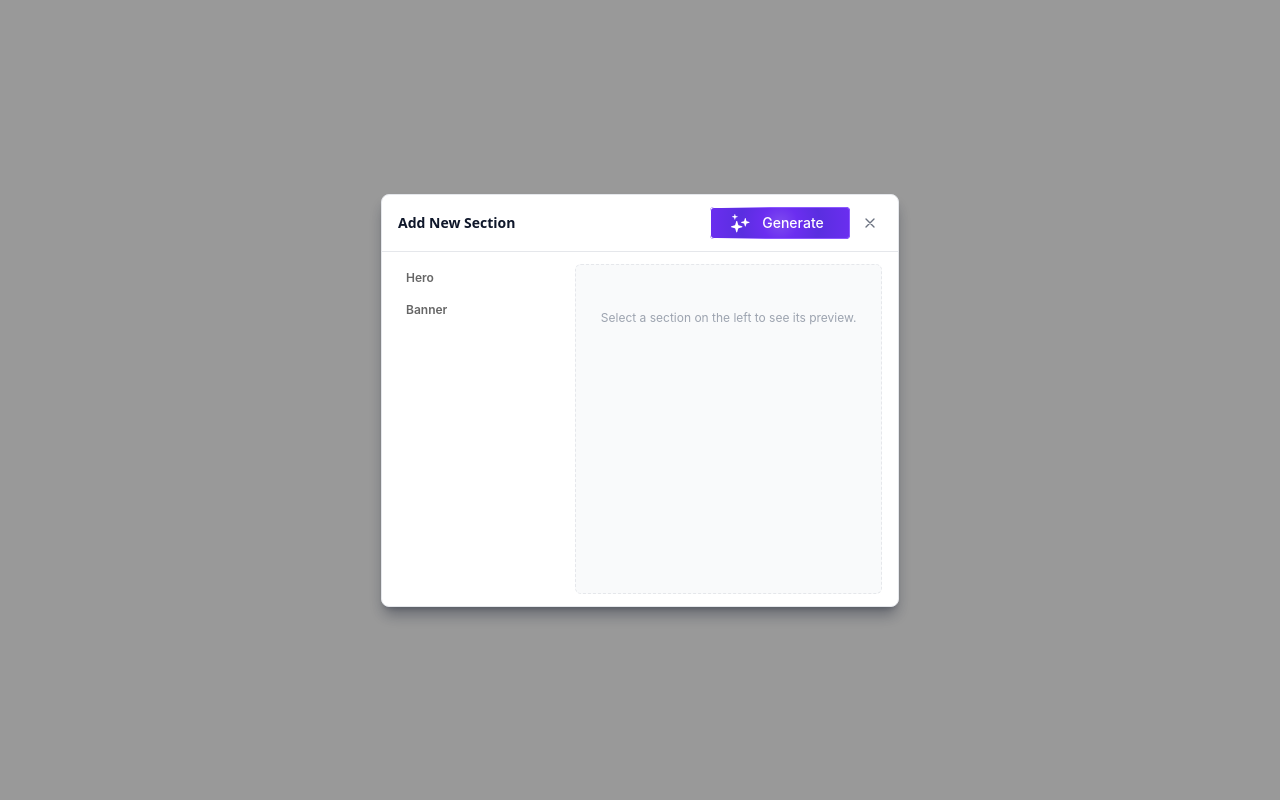
Scenario: SectionLibraryDialog — selection + confirm › shows the no-preview message for a section without an image
This screenshot has width=1280, height=800.
Click the button "Banner" at (475, 310), box [398, 296, 551, 324]
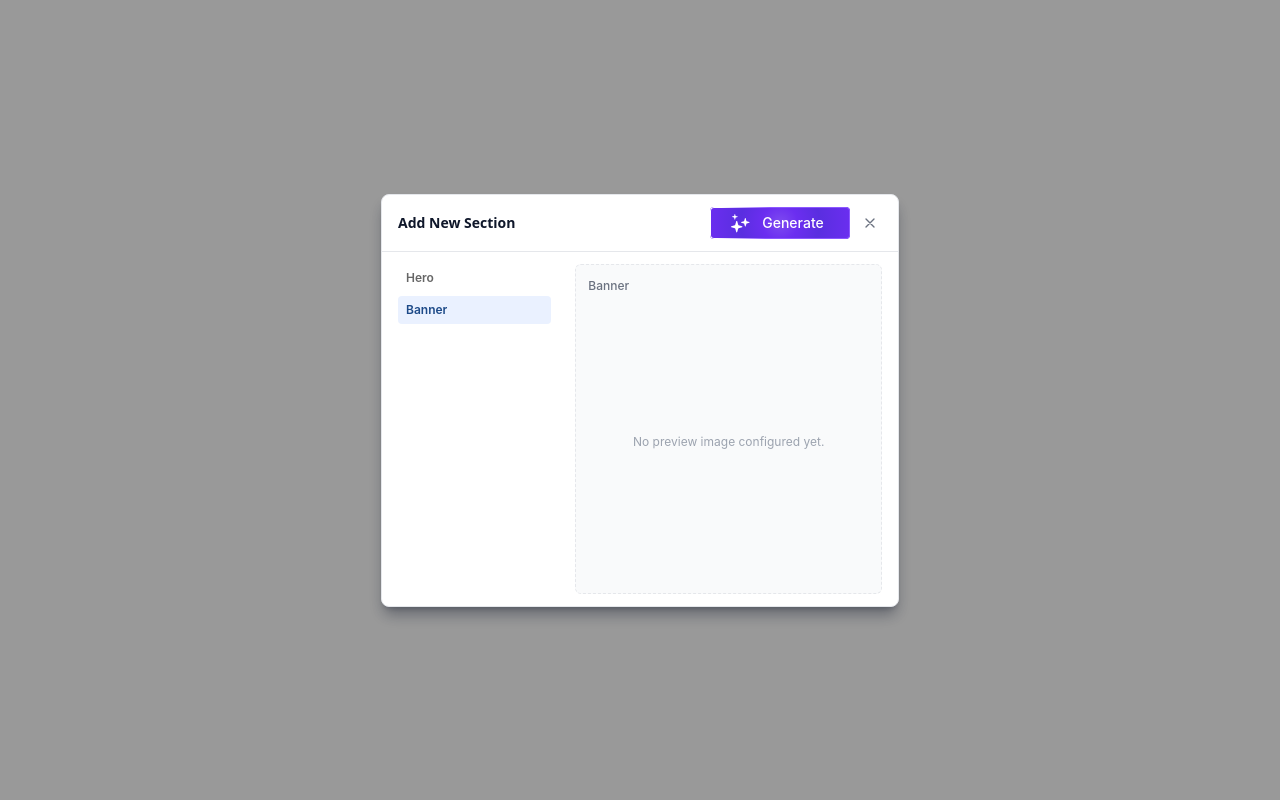
Result: the text "No preview image configured yet." is shown at [633, 434, 824, 448]
